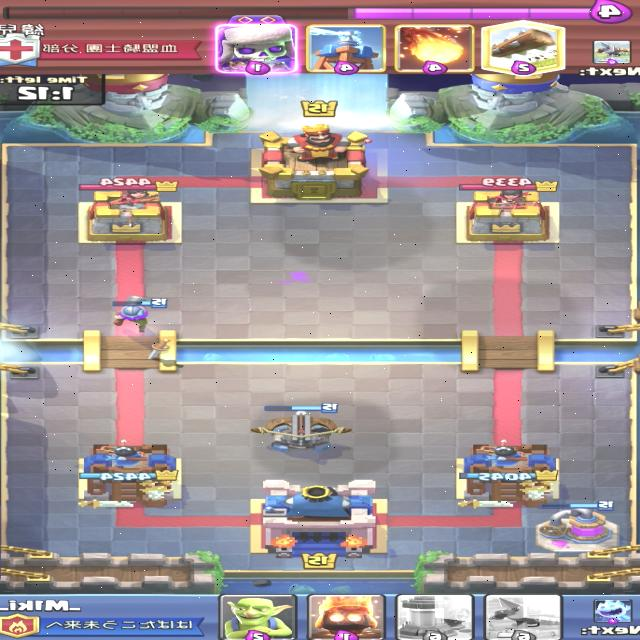Player-ElixirPump: (533, 501, 621, 554)
Player-Musketeer: (115, 295, 169, 335)
Player-XBow: (248, 404, 353, 451)
